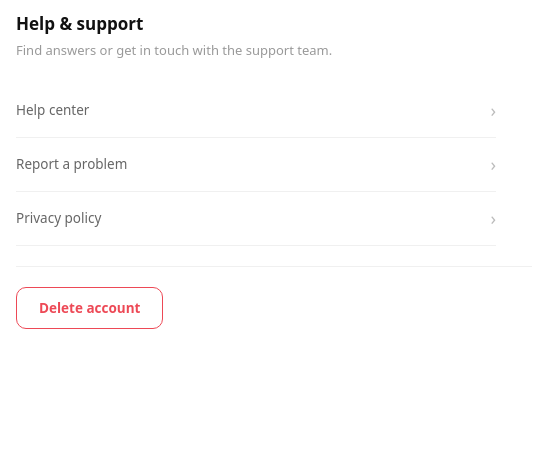
Scenario: HelpSection › lets the user cancel out of the delete confirmation panel
Click the button "Delete account". click: (90, 308)
box: [16, 287, 163, 329]
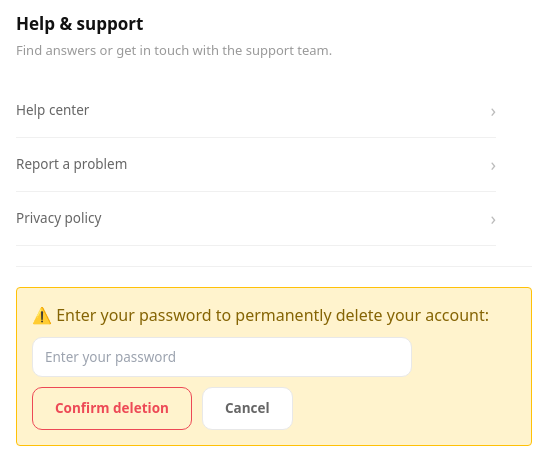
Now the password field with placeholder "Enter your password" is shown, box [32, 337, 412, 377]
Click the button "Cancel". click: (247, 408)
box: [202, 387, 293, 430]
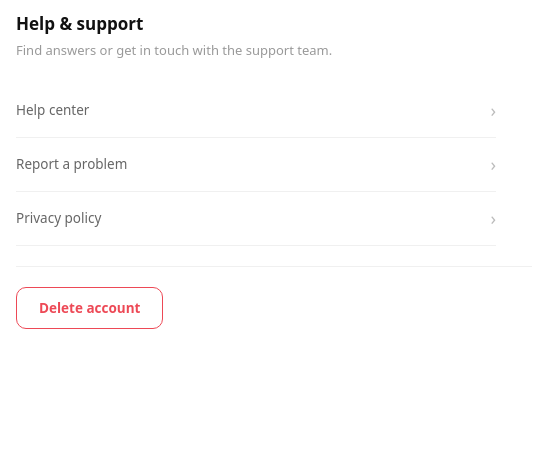
Now the text with placeholder "Enter your password" is gone
Now the button "Delete account" is shown, box [16, 287, 163, 329]
